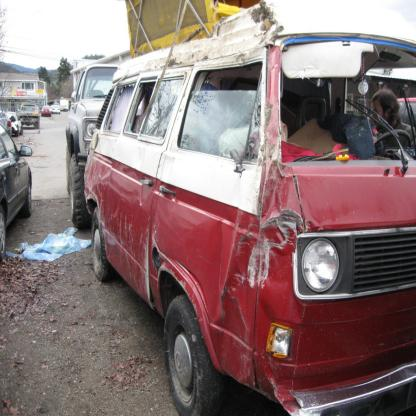Car: (67, 66, 120, 231), (1, 123, 33, 263)
